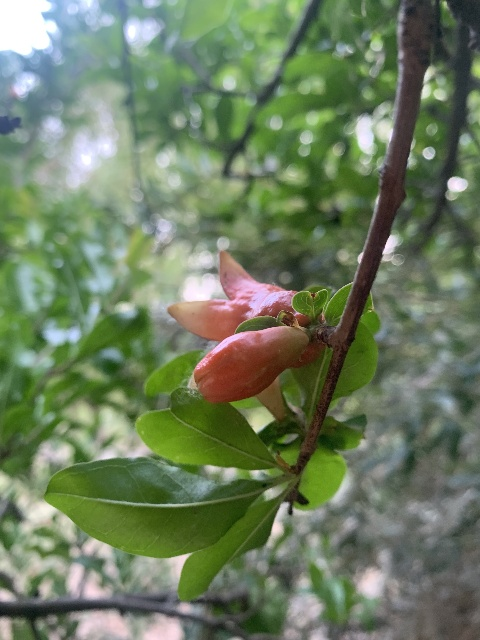bud: (190, 325, 313, 404)
flower: (166, 249, 313, 409)
